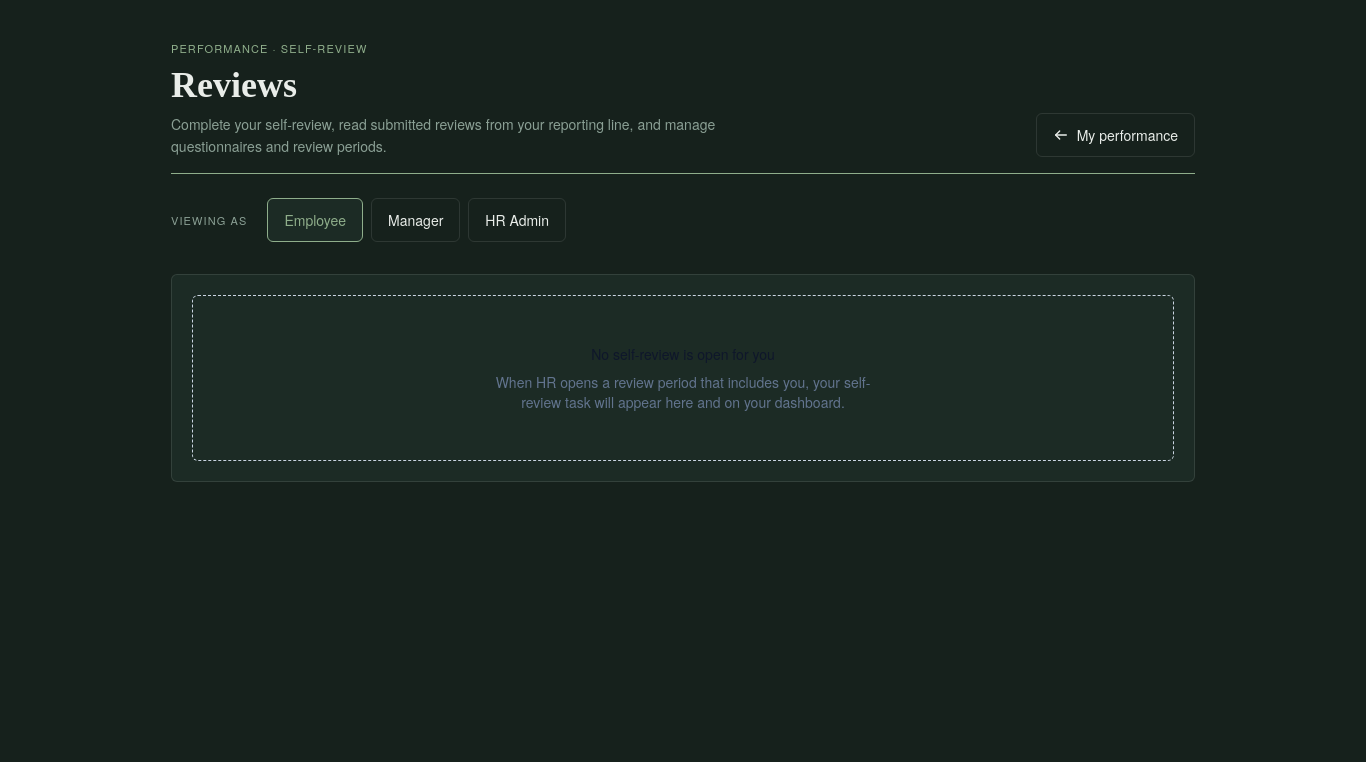
Review periods › [AC-063] the picker and the period list come from the API, not from seeded constants
Click the tab "HR Admin". click: (517, 220)
box: [468,198,566,242]
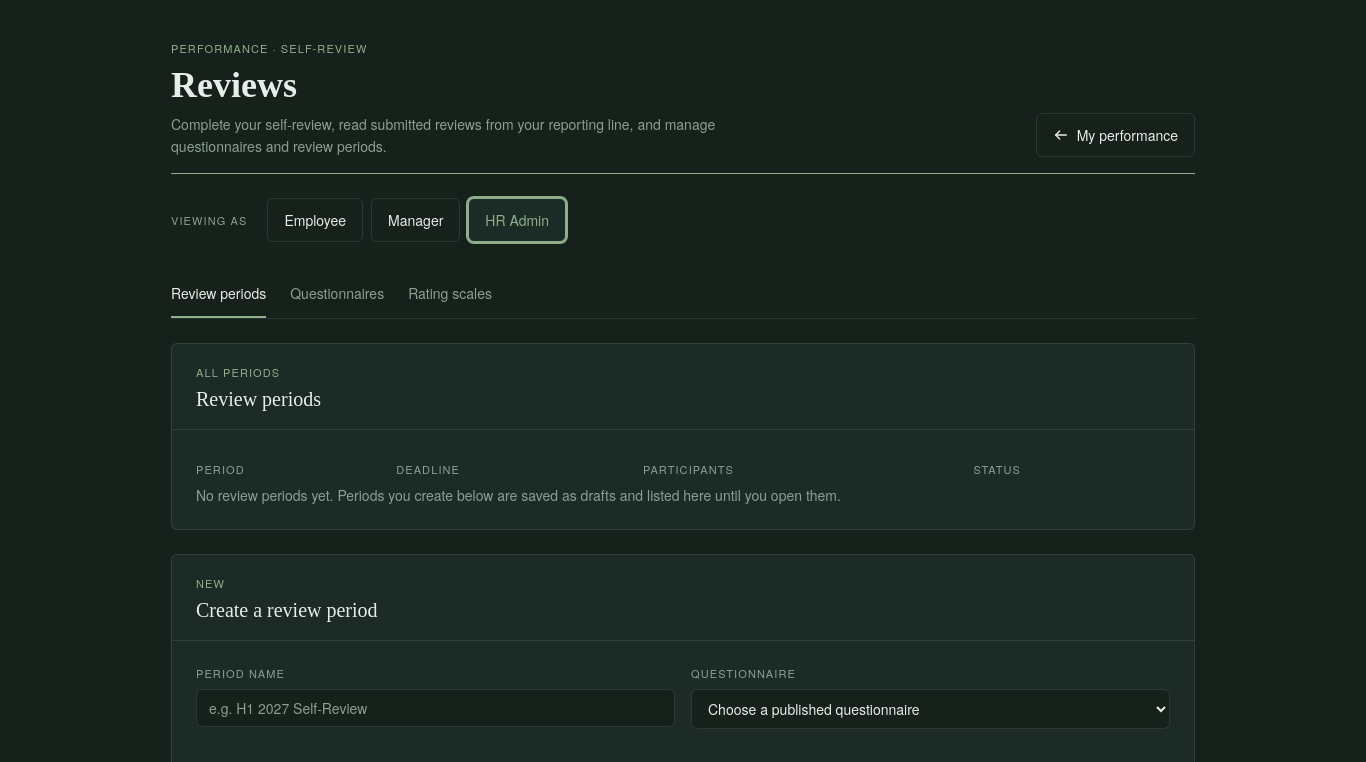
Expected: the text "No review periods yet" is shown, [196,486,841,506]
